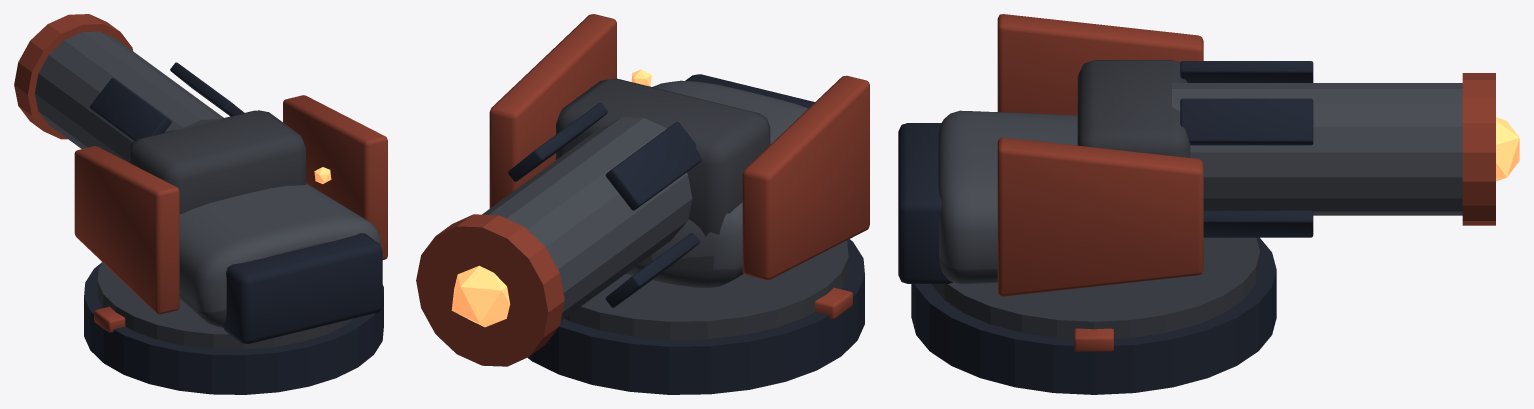
File: turret_torpedo_bays.glb
The picture shows the model from 3 angles, left to right: view 1: azimuth 30°, elevation 25°; view 2: azimuth 150°, elevation 25°; view 3: azimuth 270°, elevation 25°; orthographic projection. The views are drawn at different scales.
Parts seen in each view (by area): view 1: Yaw_mesh, Pitch_mesh, Base_mesh; view 2: Pitch_mesh, Yaw_mesh, Base_mesh; view 3: Yaw_mesh, Pitch_mesh, Base_mesh.
Part boxes in pixels (x1,y1,x2,y2): Yaw_mesh: (74, 95, 387, 343); Pitch_mesh: (14, 14, 305, 214); Base_mesh: (84, 262, 383, 394); Pitch_mesh: (416, 78, 770, 366); Yaw_mesh: (489, 14, 869, 288); Base_mesh: (527, 239, 864, 394); Yaw_mesh: (898, 14, 1203, 296); Pitch_mesh: (1077, 60, 1519, 237); Base_mesh: (911, 237, 1276, 394).
Bounding box in the file's own units: 1.12 × 0.7907 × 1.87.
